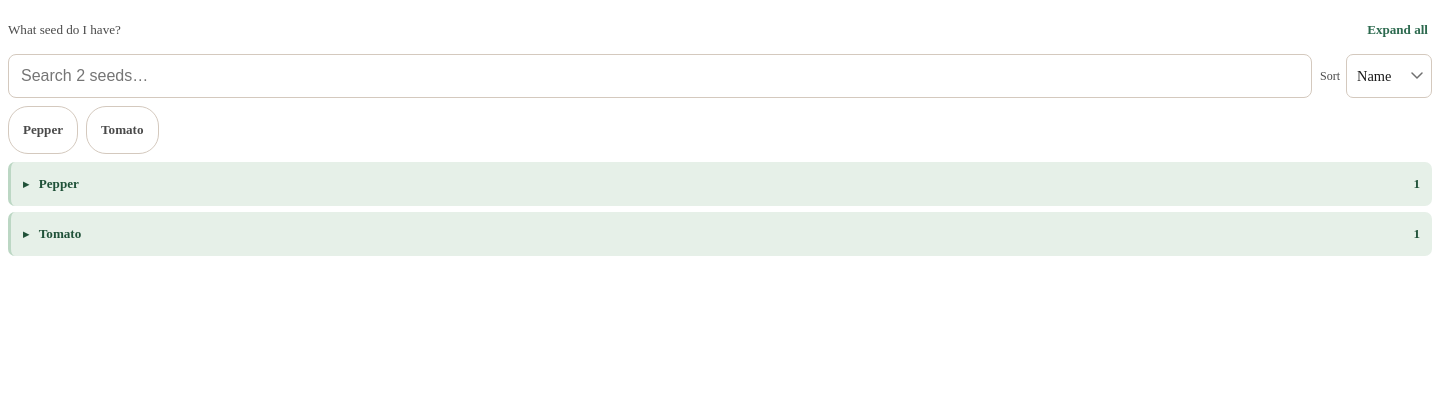
Scenario: My seeds — what each card says › saved lots: no supplier chip; seed count, origin words and harvest year; uncounted says no amount at all
This screenshot has width=1440, height=401.
Click the button with test id "facet-group-header" showing "▸ Pepper 1" at (59, 184), box left=8, top=162, right=1432, bottom=206
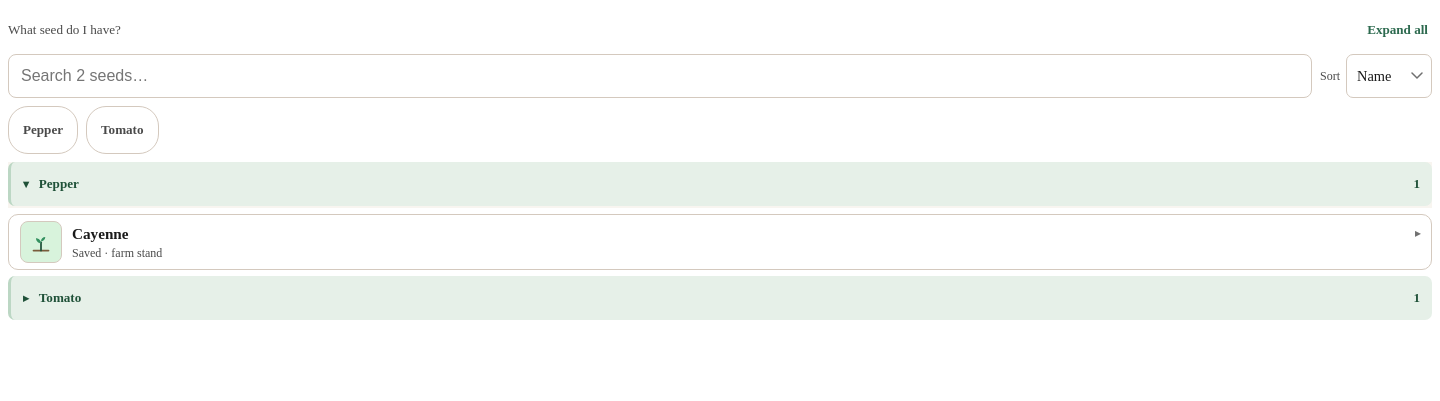
Click the button with test id "facet-group-header" showing "▸ Tomato 1" at (60, 298), box left=8, top=276, right=1432, bottom=320
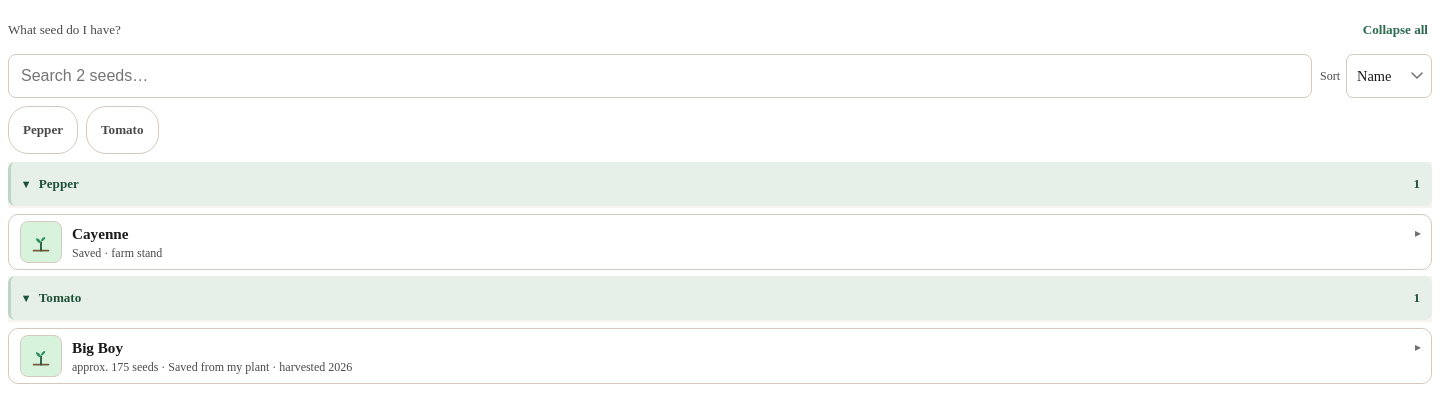
Check: the element with test id "my-seed-line" reads "Saved · farm stand", box left=72, top=246, right=162, bottom=260
Check: the text with test id "my-seed-amount" reads "approx. 175 seeds", box left=72, top=360, right=158, bottom=374
Check: the text with test id "my-seed-rest" reads "· Saved from my plant · harvested 2026", box left=158, top=360, right=352, bottom=374
